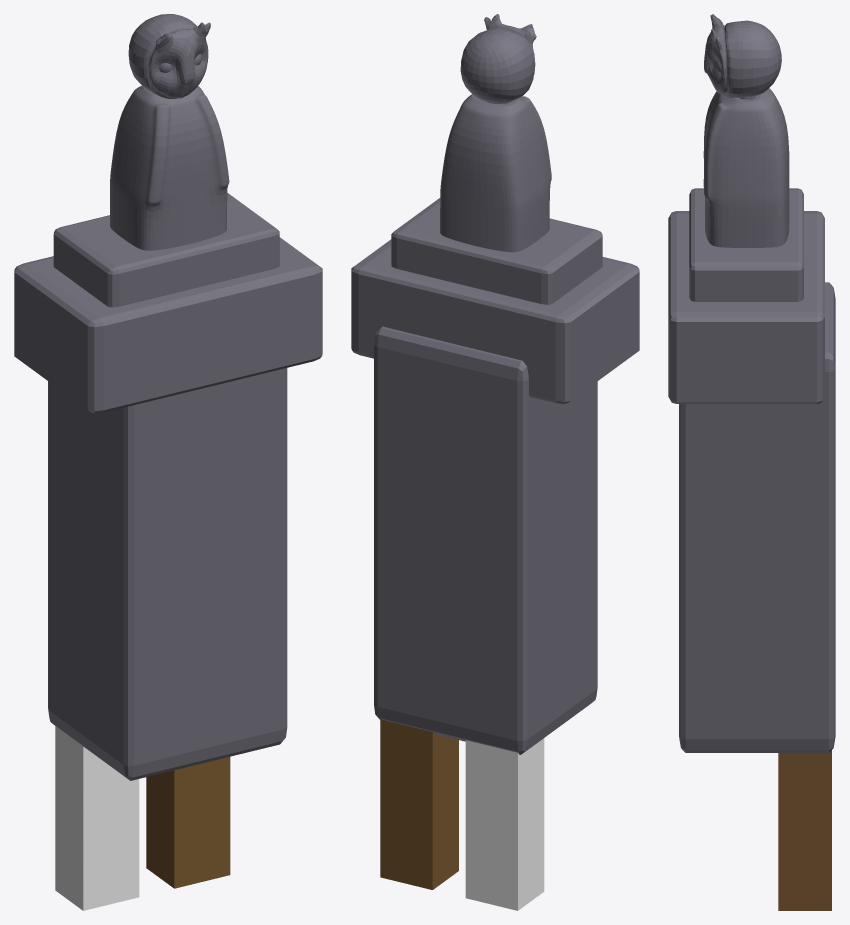
File: dryad_statue_previz_v3.glb
3 views of the same model, side by side, from view 1: azimuth 30°, elevation 25°; view 2: azimuth 150°, elevation 25°; view 3: azimuth 270°, elevation 25° (orthographic). The views are drawn at different scales.
Parts seen in each view (by area): view 1: Sphere002; view 2: Sphere002; view 3: Sphere002.
Part boxes in pixels (x1,y1,x2,y2): Sphere002: [14, 14, 322, 910]; Sphere002: [351, 14, 639, 910]; Sphere002: [668, 14, 835, 910].
Bounding box in the file's own units: 1.56 × 5.67 × 1.01.
